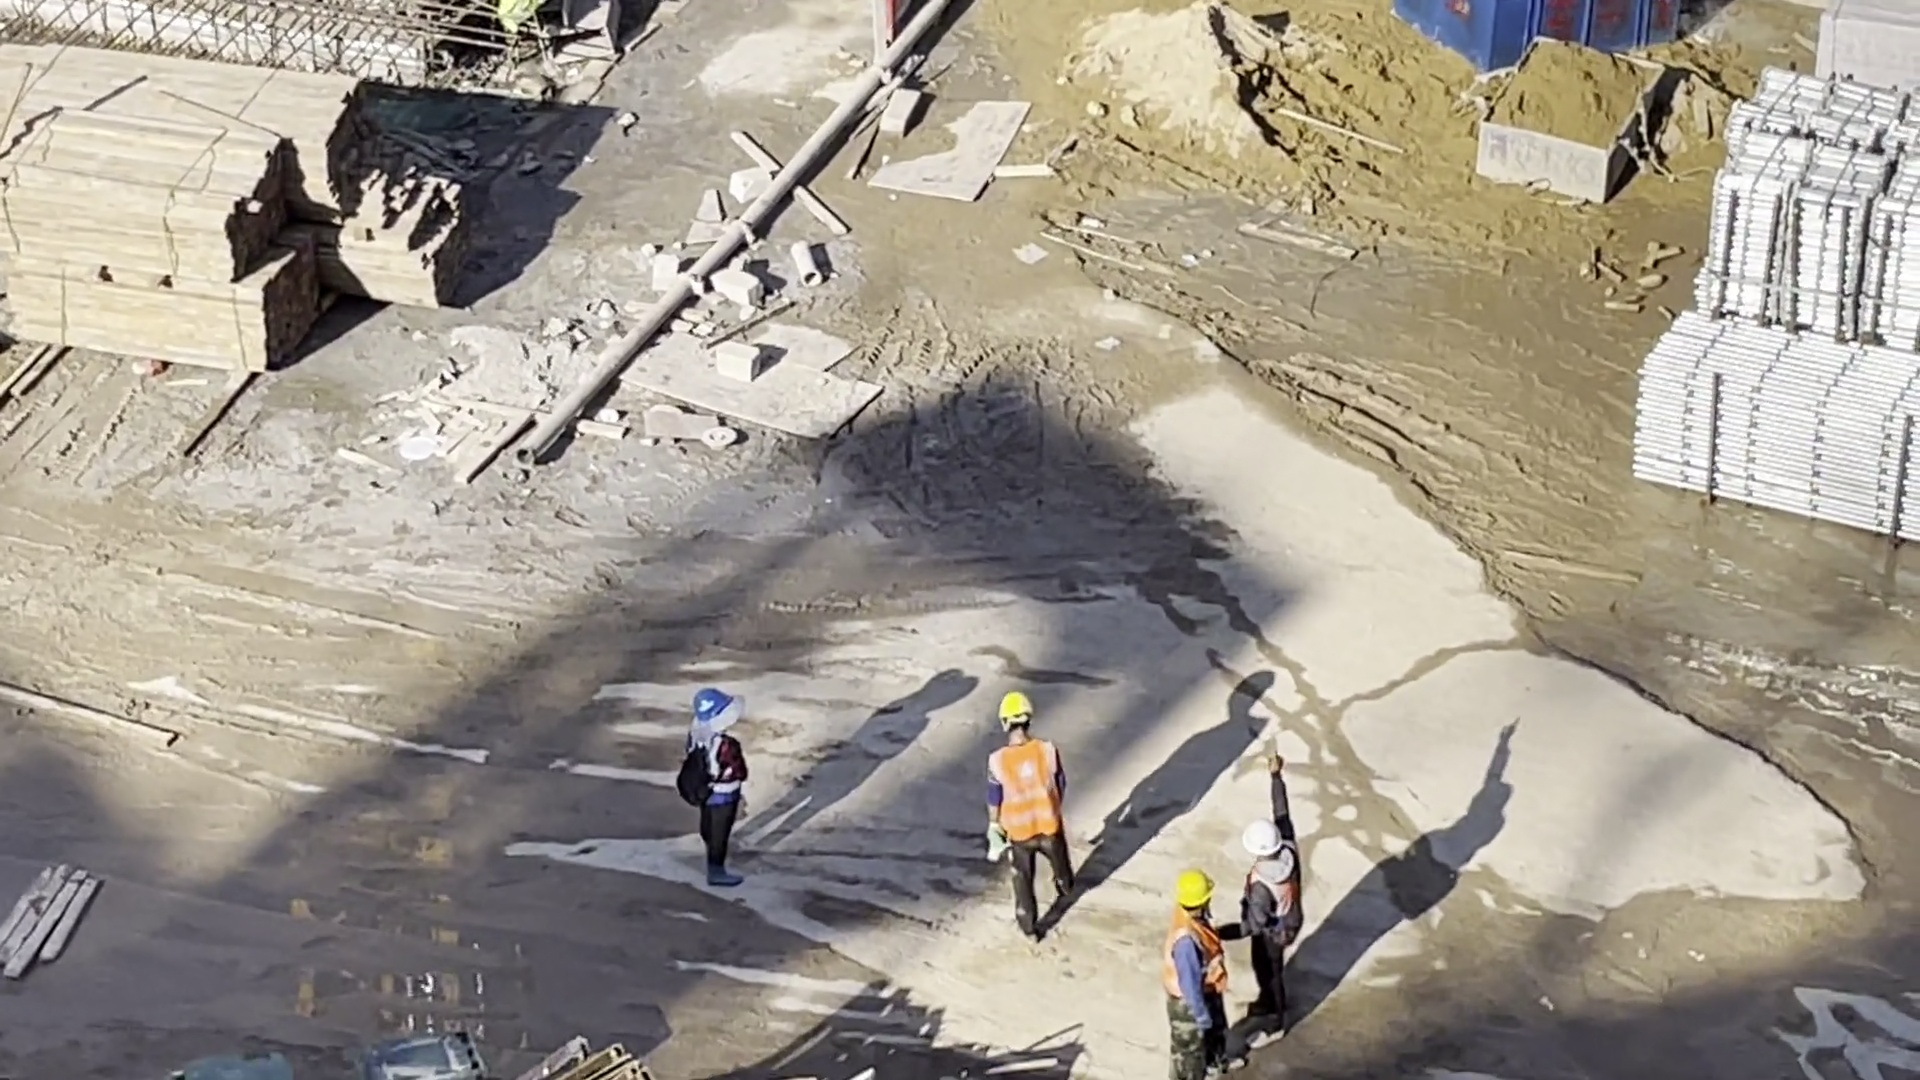helmet: (1243, 820, 1282, 857), (1178, 872, 1215, 904), (692, 692, 736, 719), (997, 691, 1032, 723)
hopper: (1471, 39, 1670, 203), (1394, 1, 1698, 74)
person: (990, 697, 1074, 947), (1223, 818, 1302, 1057), (1162, 866, 1225, 1080), (685, 689, 750, 888)
scaffold: (1633, 310, 1920, 543), (1708, 74, 1920, 350)
vest: (990, 741, 1062, 842), (1159, 915, 1221, 993), (694, 737, 740, 806)
wood: (13, 119, 308, 366), (1, 43, 359, 208)
